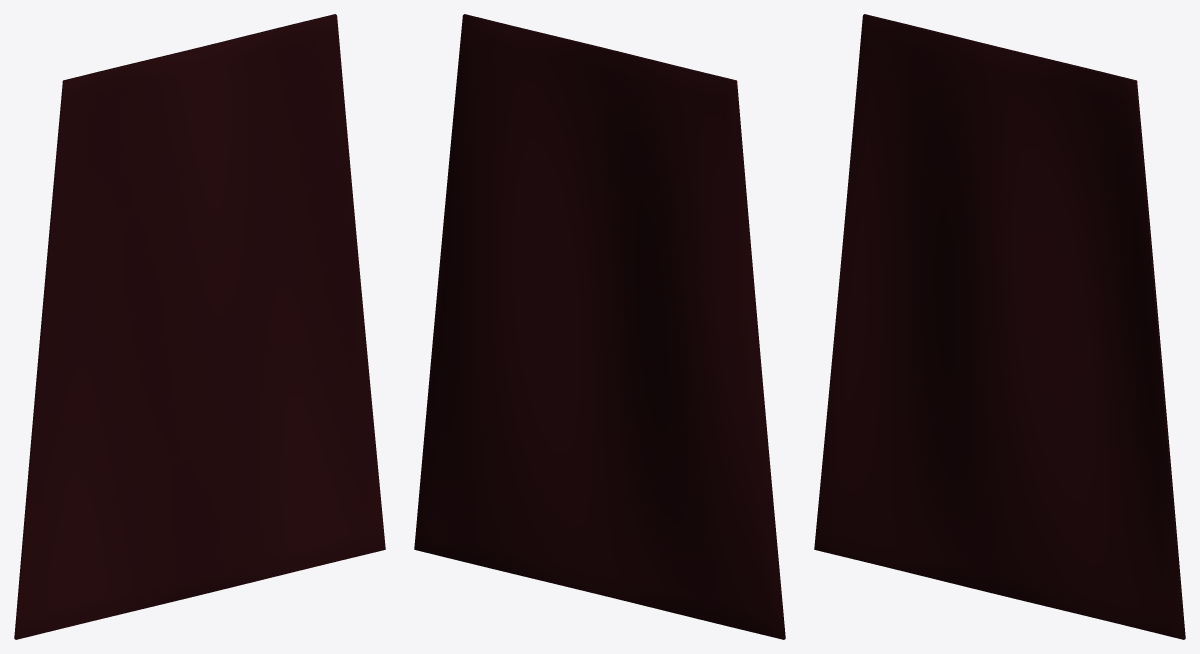
File: arm_human_back_crimson_cape_t1_m.glb
The picture shows the model from 3 angles, left to right: view 1: azimuth 30°, elevation 25°; view 2: azimuth 150°, elevation 25°; view 3: azimuth 330°, elevation 25°; orthographic projection.
Parts seen in each view (by area): view 1: armor_back_cape_heavy_fall; view 2: armor_back_cape_heavy_fall; view 3: armor_back_cape_heavy_fall.
Boxes of the visible parts, x1,y1,x2,y2 form: armor_back_cape_heavy_fall: (14,14,385,639); armor_back_cape_heavy_fall: (414,14,785,639); armor_back_cape_heavy_fall: (814,14,1185,639).
Size of the model in its own units: 0.7601 by 1.07 by 0.0657.
